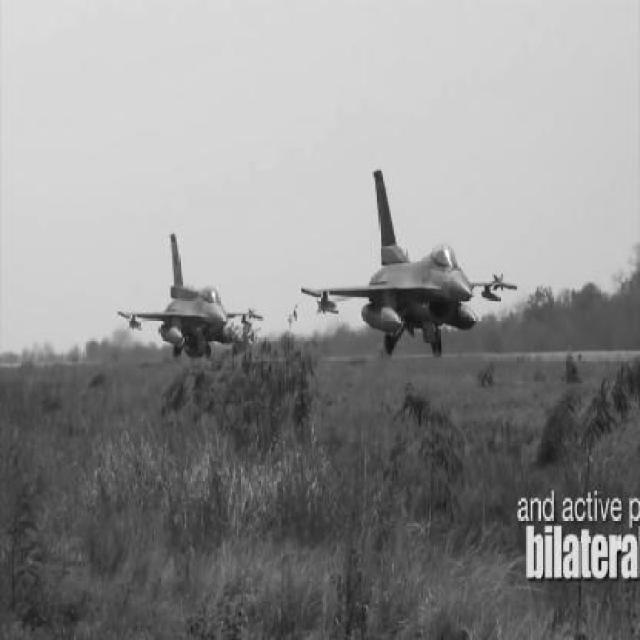Airplane: (301, 169, 519, 358), (117, 233, 265, 360)
